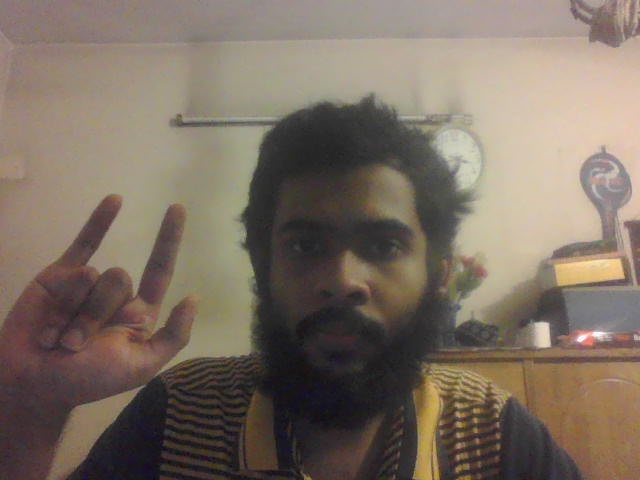I Love You: (1, 192, 202, 389)
